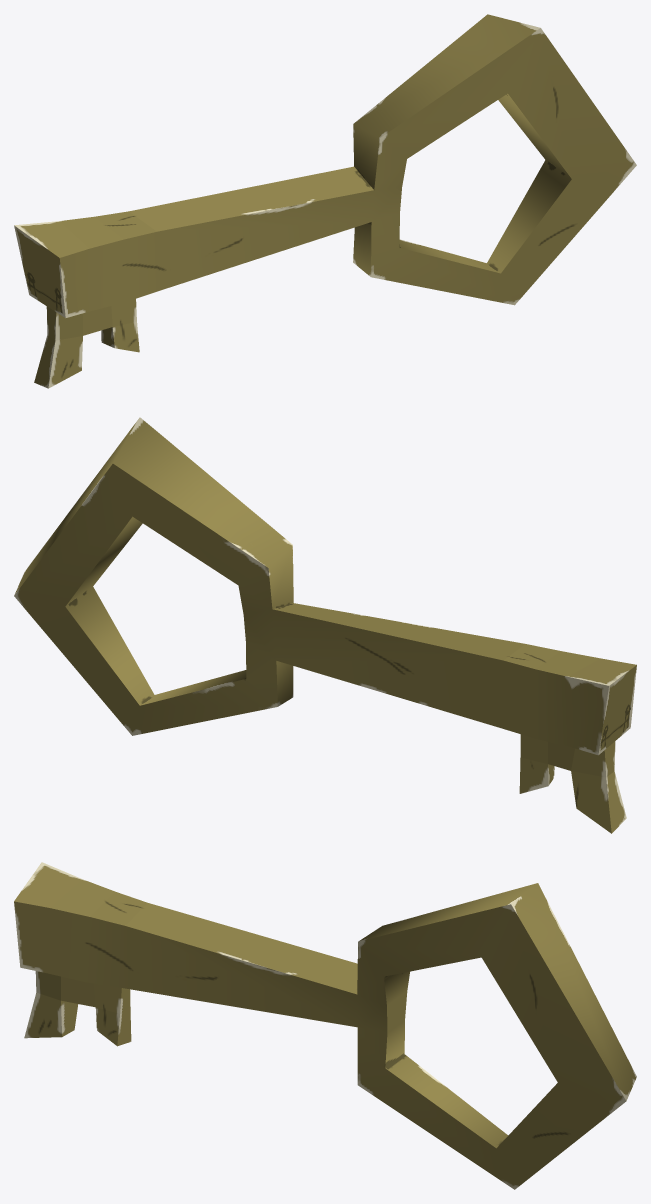
File: Key.fbx
3 views of the same model, one above another, from view 1: azimuth 30°, elevation 25°; view 2: azimuth 150°, elevation 25°; view 3: azimuth 330°, elevation 25° (orthographic). The views are drawn at different scales.
Visible parts, largest first — view 1: Key; view 2: Key; view 3: Key.
Boxes of the visible parts, x1,y1,x2,y2 form: Key: [14, 14, 636, 388]; Key: [14, 417, 636, 833]; Key: [14, 862, 636, 1189].
Size of the model in its own units: 0.3718 by 0.172 by 0.0437.
1 material, 1 textured.
